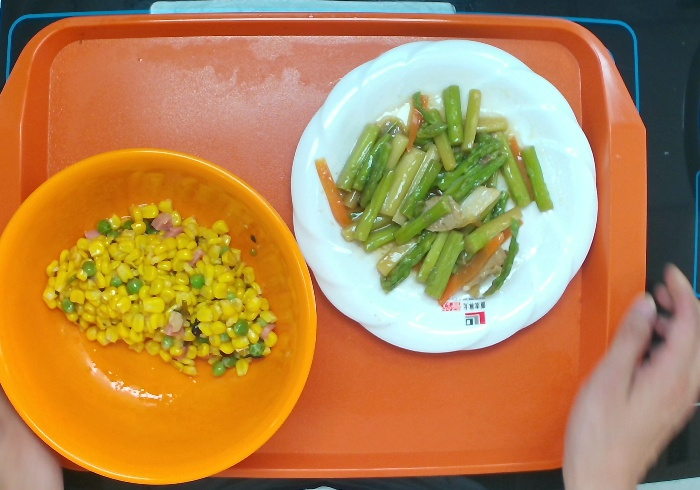ZNLD-Hua_Bian_Wan: (287, 36, 601, 356)
ZNLD-Ju_Se_Tang_Wan: (1, 145, 321, 490)
